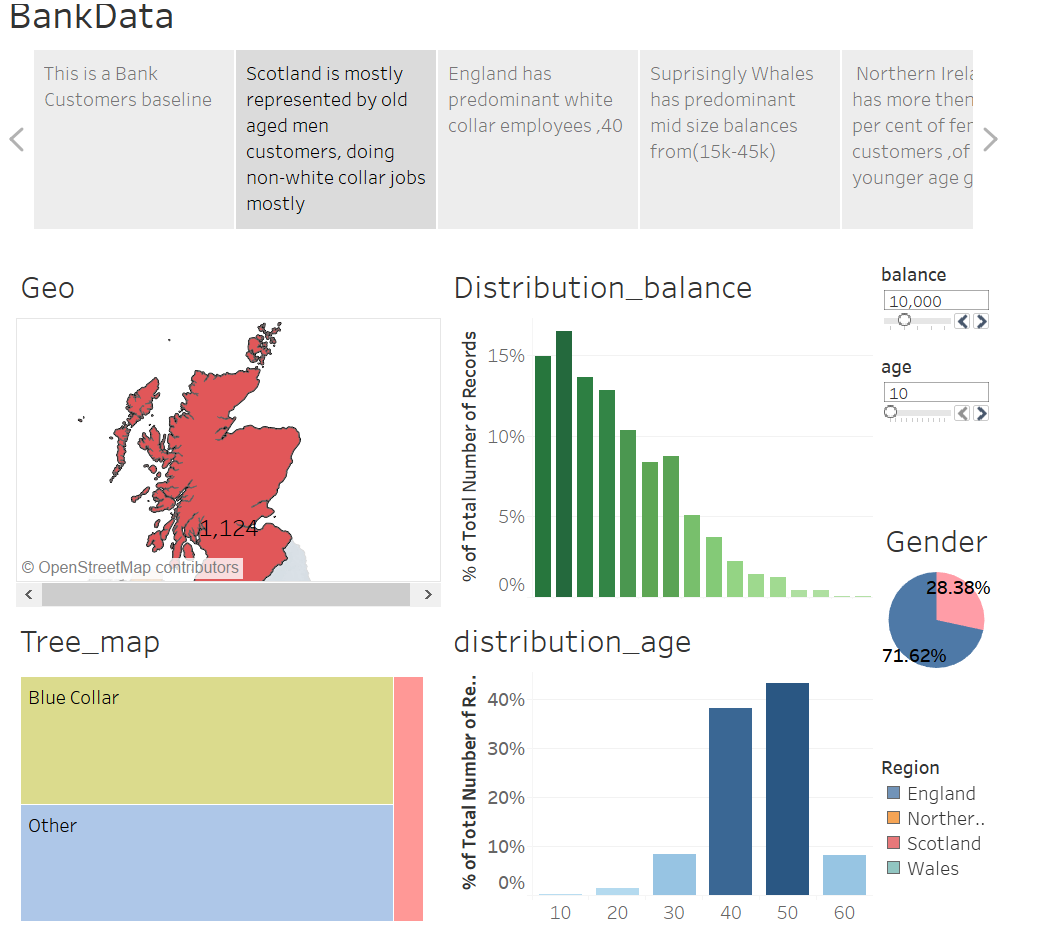

The dashboard page shown, as its layout file describes it:
{"tool":"tableau","page":{"name":"Dashboard 1","canvas":[1000,1000],"units":"permille","ordinal":0},"visuals":[{"type":"worksheet","title":"Geo","mark":"Multipolygon","box":[7.8,10.4,434.1,515.6]},{"type":"worksheet","title":"Distribution_balance","mark":"Automatic","rows":["Number of Records"],"cols":["Balance (bin)"],"box":[441.9,10.4,434.1,515.6]},{"type":"parameter","param":"[Parameters].[Parameter 1]","box":[876,10.4,116.2,119.8]},{"type":"parameter","param":"[Parameters].[Parameter 2]","box":[876,130.2,116.2,210.9]},{"type":"worksheet","title":"Gender","mark":"Pie","box":[876,341.2,116.2,311.2]},{"type":"worksheet","title":"Tree_map","mark":"Automatic","box":[7.8,526,434.6,463.5]},{"type":"worksheet","title":"distribution_age","mark":"Bar","rows":["Number of Records"],"cols":["Age (bin) 2"],"box":[442.4,526,433.6,463.5]},{"type":"legend","title":"Geo","param":"[federated.1nreppc0ht07c41cfi82005qtnct].[none:Region:nk]","box":[876,652.4,116.2,174.5]}]}

Visuals, with their boxes on the dashboard's canvas, which has no fixed pixel size, in thousandths of its width and height (x1, y1, x2, y2). These are canvas units, not pixel positions in the 1051x936 screenshot, which may show the page scaled, cropped or inside an application window:
"Geo" worksheet (Multipolygon marks): (8,10,442,526)
"Distribution_balance" worksheet: (442,10,876,526)
parameter: (876,10,992,130)
parameter: (876,130,992,341)
"Gender" worksheet (Pie marks): (876,341,992,652)
"Tree_map" worksheet: (8,526,442,990)
"distribution_age" worksheet (Bar marks): (442,526,876,990)
"Geo" legend: (876,652,992,827)
